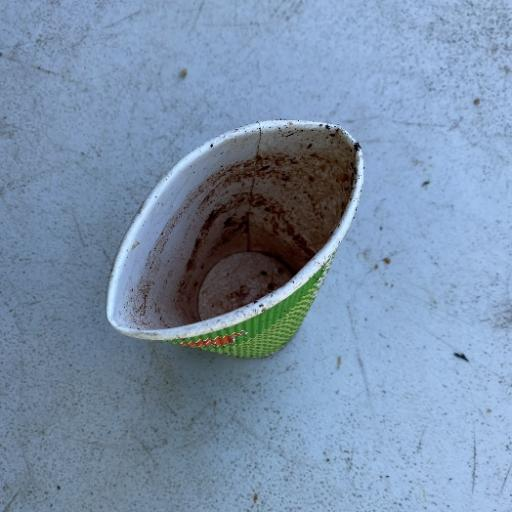Cardboard: (104, 116, 366, 361)
